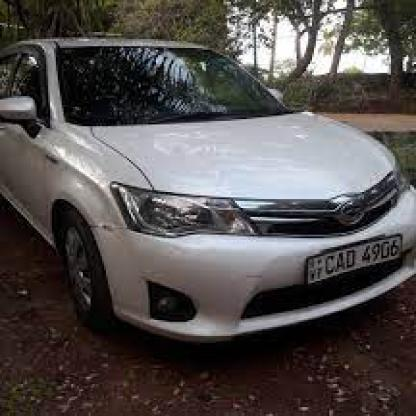car: (2, 36, 414, 354)
